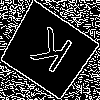K: (23, 26, 75, 83)
